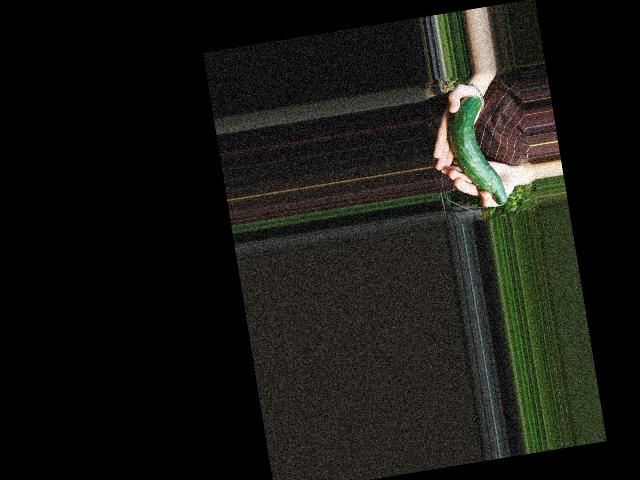cucumber: (443, 91, 507, 211)
